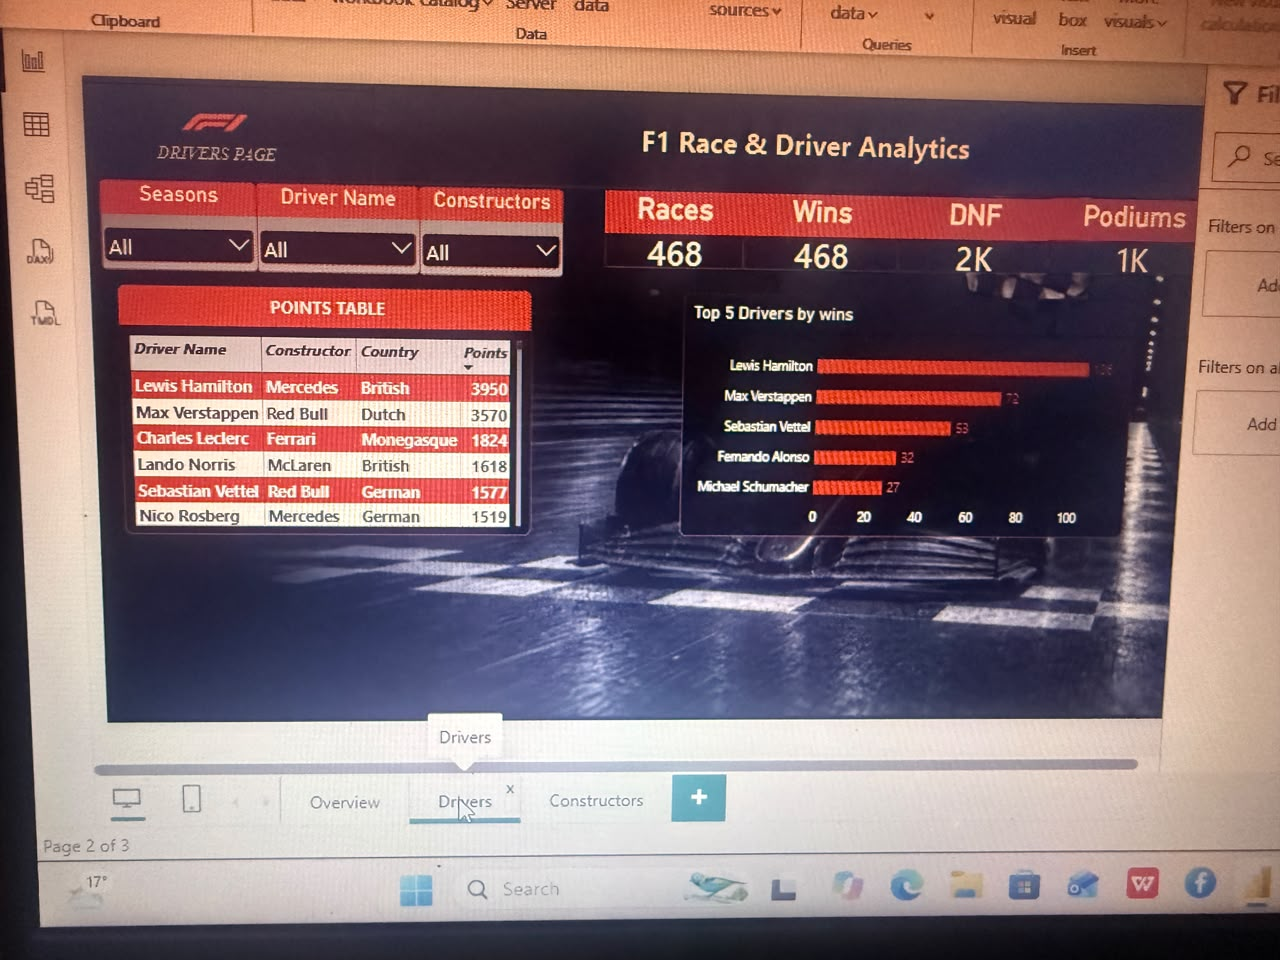

The dashboard page shown, as its layout file describes it:
{"tool":"powerbi","page":{"name":"Drivers","canvas":[1920,1080],"ordinal":1},"visuals":[{"type":"textbox","box":[0,7.5,1920,150],"z":0},{"type":"cardVisual","title":"Avg.Age","fields":{"Data":["Avg(f1_main.drivers age)"]},"box":[1090,162.5,267.5,127.5],"z":1000},{"type":"cardVisual","title":"Races","fields":{"Data":["Count(f1_main.race_date)"]},"box":[845,162.5,245,127.5],"z":2000},{"type":"cardVisual","title":"Podiums","fields":{"Data":["f1_main.Total Podiums"]},"box":[1622.5,162.5,297.5,127.5],"z":3000},{"type":"image","box":[25.9,0,369.4,164.2],"z":4000},{"type":"cardVisual","title":" D.N.F","fields":{"Data":["Sum(f1_main.is_dnf)"]},"box":[1357.5,162.5,265,127.5],"z":5000},{"type":"slicer","title":"Seasons","fields":{"Values":["f1_main.season"]},"box":[20,162.5,252.7,144.7],"z":6000},{"type":"slicer","title":"Constructors","fields":{"Values":["f1_main.constructor_name"]},"box":[540,162.5,241.9,144.7],"z":7000},{"type":"textbox","box":[58.3,101.5,306.7,62.6],"z":8000},{"type":"slicer","title":"Driver Name","fields":{"Values":["f1_main.driver_name"]},"box":[272.5,162.5,267.8,144.7],"z":9000},{"type":"clusteredBarChart","title":"TOP 5 DRIVERS BY WINS ","fields":{"Category":["f1_main.driver_name"],"Y":["f1_main.Total Wins"]},"box":[25,640,982.5,430],"z":10000},{"type":"tableEx","title":"STANDINGS","fields":{"Values":["f1_main.driver_name","f1_main.constructor_name","f1_main.driver_nationality","Sum(f1_main.points)","Sum(f1_main.is_win)","f1_main.Avg Positions Gained"]},"box":[1022.5,295,890,357.5],"z":11000},{"type":"clusteredColumnChart","title":"WINS BY DRIVERS AGE","fields":{"Category":["f1_main.drivers age"],"Y":["Sum(f1_main.is_win)"]},"box":[20,312.5,987.5,322.5],"z":12000},{"type":"shape","box":[347.5,20,1572.5,125],"z":13000},{"type":"textbox","box":[395,37.5,802.5,122.5],"z":14000},{"type":"lineChart","title":"DRIVERS PERFORMANCE OVER TIME","fields":{"Category":["f1_main.season"],"Series":["f1_main.driver_name"],"Y":["Sum(f1_main.points)"]},"box":[1022.2,655.6,891.1,417.8],"z":15000},{"type":"pageNavigator","title":"VIEWING..","box":[1197.8,37.8,668.9,102.2],"z":15001}]}

Visuals, with their boxes on the page's 1920x1080 design canvas (x1, y1, x2, y2). These are canvas units, not pixel positions in the 1280x960 screenshot, which may show the page scaled, cropped or inside an application window:
textbox: l=0, t=8, r=1920, b=158
"Avg.Age" cardVisual: l=1090, t=162, r=1358, b=290
"Races" cardVisual: l=845, t=162, r=1090, b=290
"Podiums" cardVisual: l=1622, t=162, r=1920, b=290
image: l=26, t=0, r=395, b=164
" D.N.F" cardVisual: l=1358, t=162, r=1622, b=290
"Seasons" slicer: l=20, t=162, r=273, b=307
"Constructors" slicer: l=540, t=162, r=782, b=307
textbox: l=58, t=102, r=365, b=164
"Driver Name" slicer: l=272, t=162, r=540, b=307
"TOP 5 DRIVERS BY WINS " clusteredBarChart: l=25, t=640, r=1008, b=1070
"STANDINGS" tableEx: l=1022, t=295, r=1912, b=652
"WINS BY DRIVERS AGE" clusteredColumnChart: l=20, t=312, r=1008, b=635
shape: l=348, t=20, r=1920, b=145
textbox: l=395, t=38, r=1198, b=160
"DRIVERS PERFORMANCE OVER TIME" lineChart: l=1022, t=656, r=1913, b=1073
"VIEWING.." pageNavigator: l=1198, t=38, r=1867, b=140
